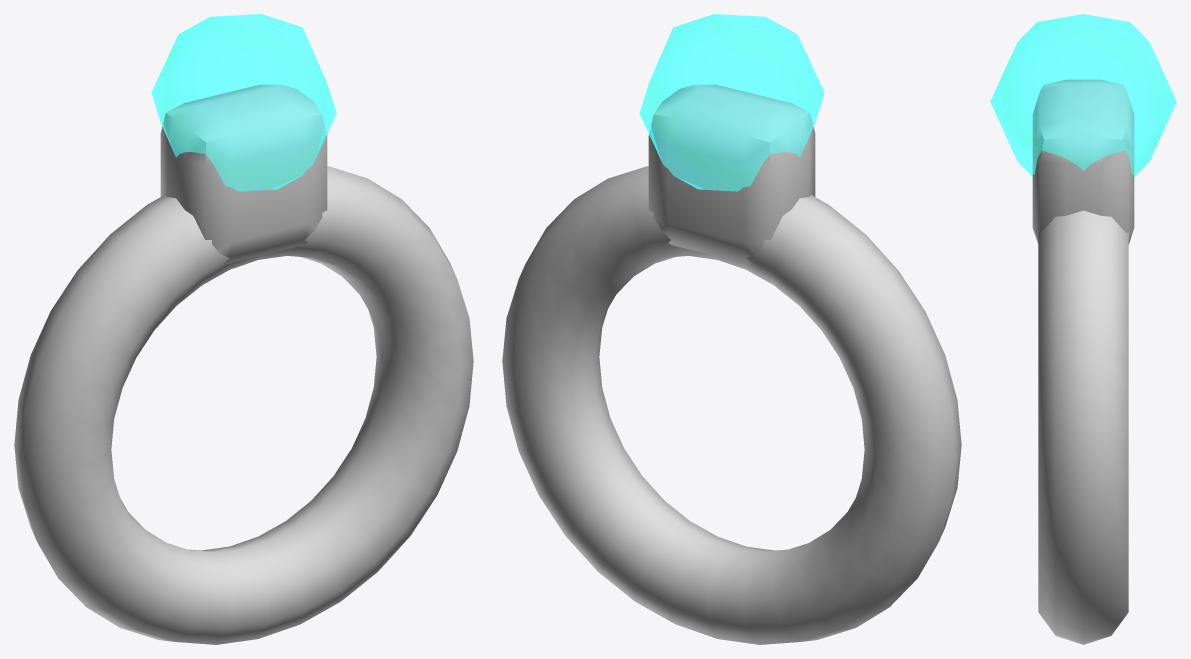
File: silver_ring.glb
The picture shows the model from 3 angles, left to right: view 1: azimuth 30°, elevation 25°; view 2: azimuth 150°, elevation 25°; view 3: azimuth 270°, elevation 25°; orthographic projection. The views are drawn at different scales.
Parts seen in each view (by area): view 1: silver_ring; view 2: silver_ring; view 3: silver_ring.
Boxes of the visible parts, x1,y1,x2,y2 form: silver_ring: (14,14,473,644); silver_ring: (502,14,961,644); silver_ring: (990,14,1176,644).
Bounding box in the file's own units: 0.0296 × 0.0393 × 0.011.
